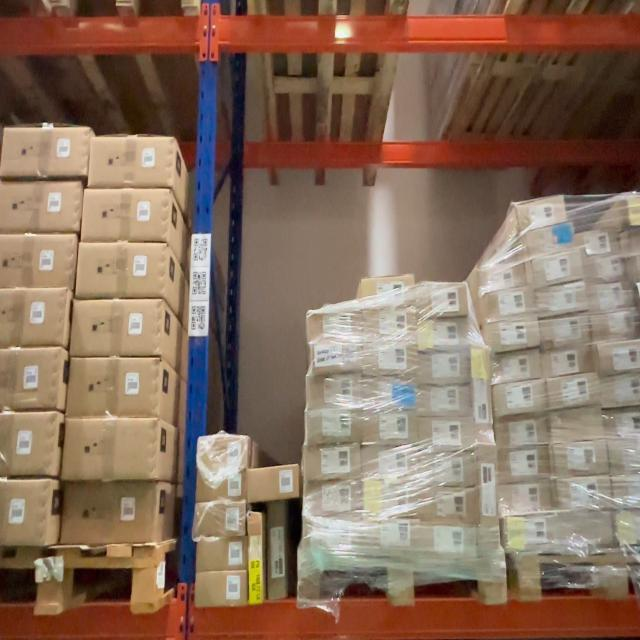box: (64, 420, 166, 479), (60, 484, 159, 543), (71, 360, 161, 416), (75, 301, 161, 354), (80, 244, 167, 296), (2, 128, 87, 178), (84, 192, 168, 242), (91, 136, 173, 186), (0, 182, 81, 231), (0, 235, 75, 286), (0, 290, 67, 346), (0, 349, 61, 410), (0, 414, 57, 476), (0, 482, 51, 544), (476, 442, 502, 560), (417, 525, 478, 562), (469, 346, 492, 444), (416, 487, 478, 523), (304, 444, 362, 481), (416, 451, 476, 486), (361, 522, 418, 558), (554, 515, 612, 550), (553, 440, 608, 476), (363, 378, 419, 413), (303, 481, 360, 515), (554, 478, 610, 512), (416, 417, 473, 450), (269, 499, 287, 603), (496, 446, 549, 481), (364, 306, 417, 341), (305, 411, 359, 445), (306, 377, 360, 411), (530, 251, 584, 285), (364, 481, 416, 516), (363, 413, 418, 446), (363, 446, 418, 479), (249, 466, 301, 500), (364, 344, 419, 376), (488, 316, 538, 351), (499, 481, 552, 514), (198, 503, 246, 539), (490, 350, 544, 382), (495, 382, 547, 415), (549, 377, 601, 410), (536, 282, 588, 315), (417, 351, 468, 384), (417, 282, 468, 315), (418, 386, 469, 419), (495, 417, 549, 448), (309, 343, 361, 375), (364, 275, 416, 307), (540, 314, 592, 346), (198, 437, 248, 470), (418, 318, 468, 351), (484, 288, 534, 321), (506, 518, 554, 552), (550, 410, 604, 440), (197, 572, 244, 606), (310, 308, 361, 339), (519, 199, 568, 231), (528, 226, 580, 256), (544, 348, 595, 378), (199, 540, 247, 571), (196, 471, 244, 502), (479, 261, 529, 290), (597, 343, 640, 376), (600, 374, 640, 409), (588, 282, 635, 311), (591, 311, 638, 340), (249, 508, 262, 606), (301, 519, 356, 541), (584, 256, 628, 283), (582, 231, 624, 257), (606, 411, 640, 442), (610, 440, 640, 475), (613, 476, 640, 510), (616, 510, 640, 546), (628, 193, 639, 226), (629, 230, 640, 260)
